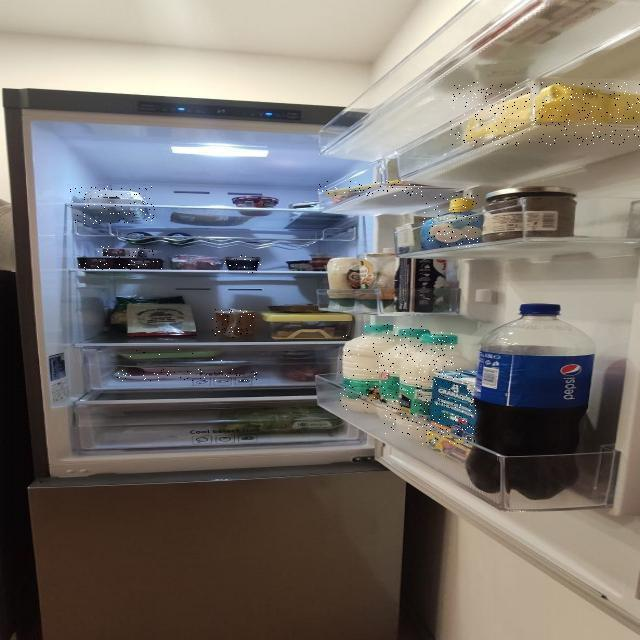Huevos: (70, 186, 155, 224)
Limón: (422, 194, 480, 248)
Mantequilla: (450, 82, 640, 146), (318, 180, 423, 196)
Queso: (213, 309, 255, 339)
Yogur: (76, 258, 165, 270), (97, 247, 157, 259), (224, 255, 261, 273)
meat: (117, 369, 259, 381), (116, 349, 227, 361)
milk: (382, 326, 429, 438), (403, 332, 454, 428), (340, 323, 391, 413), (422, 368, 477, 444)
